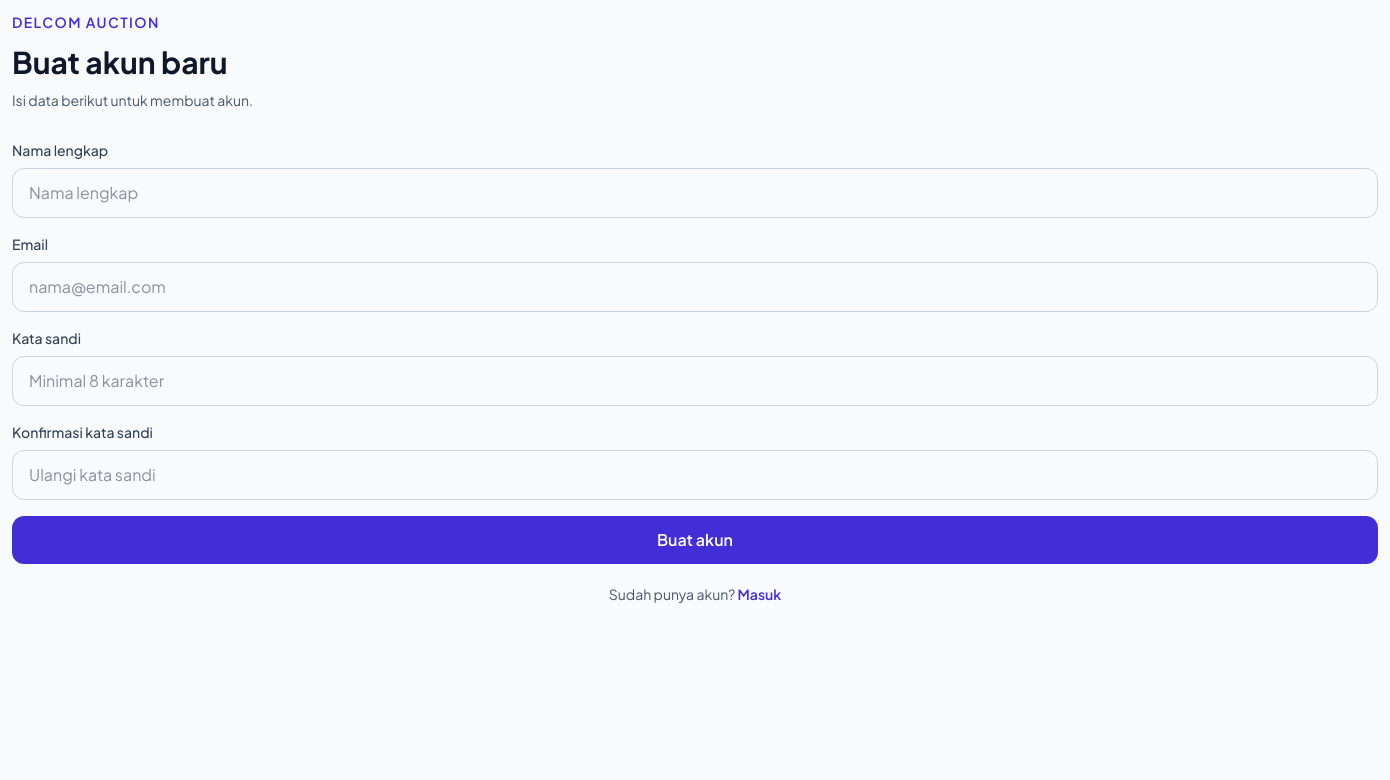
Test: RegisterPage › validasi form {"name":""}
Type "a@b.com" into the field with id "register-email". click: (695, 287)
box: [12,262,1378,312]
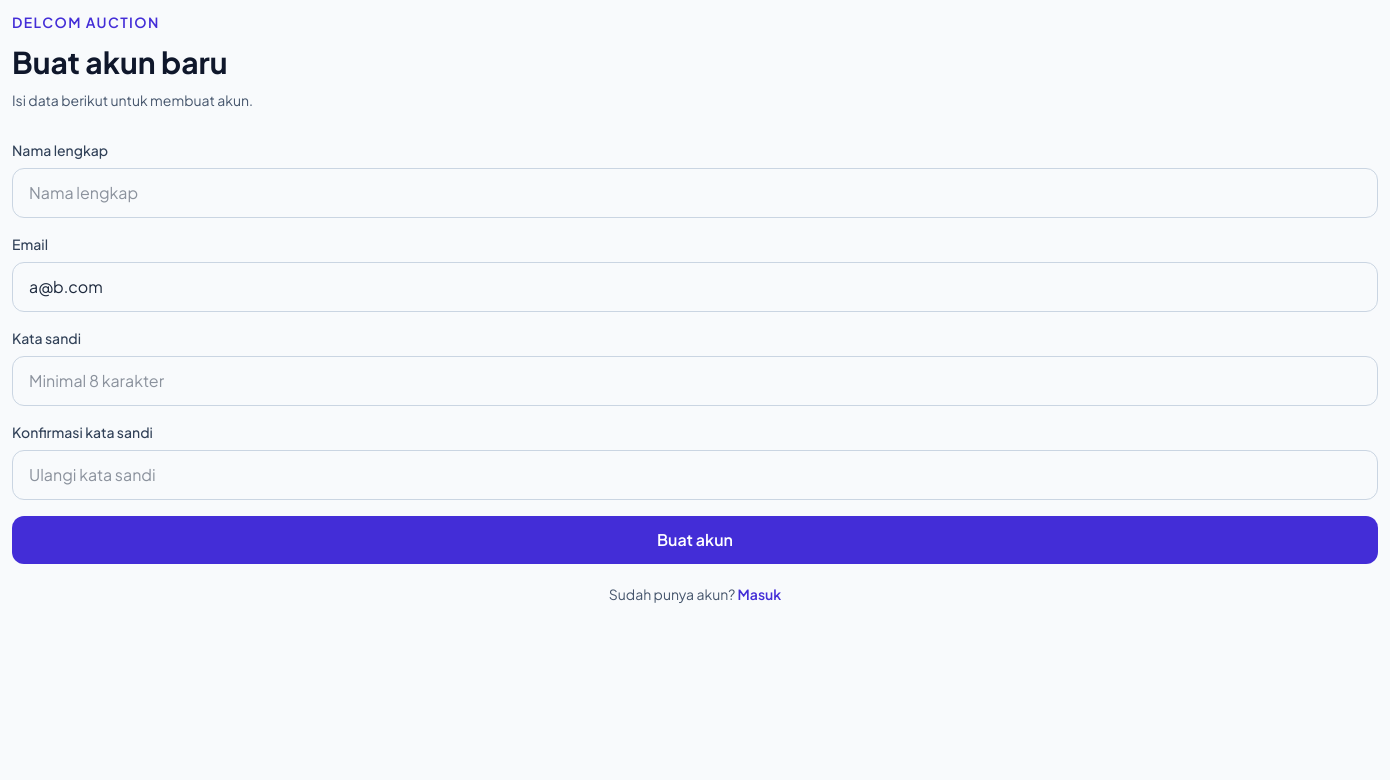
Type "rahasia123" into the password field with id "register-password". click: (695, 381)
box: [12,356,1378,406]
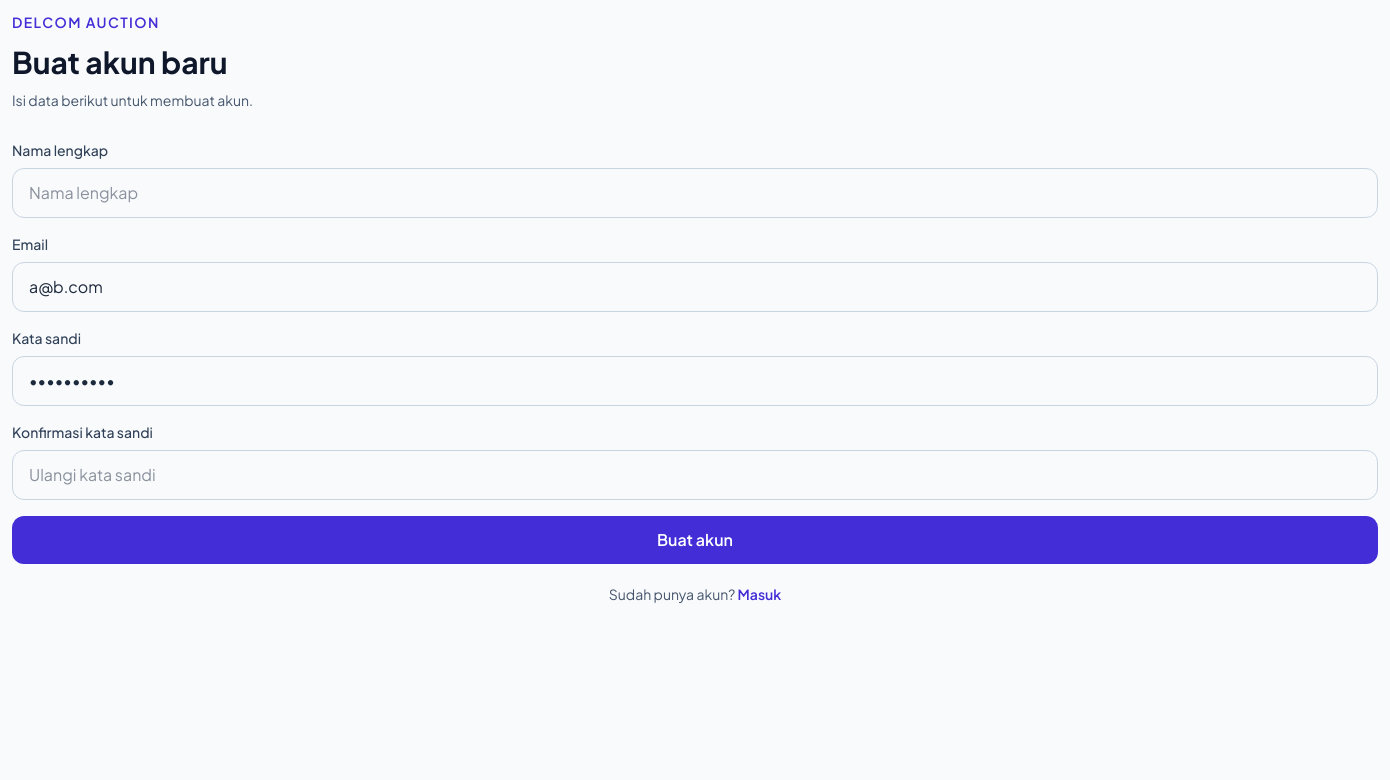
Type "rahasia123" into the password field with id "register-confirm-password". click: (695, 475)
box: [12,450,1378,500]
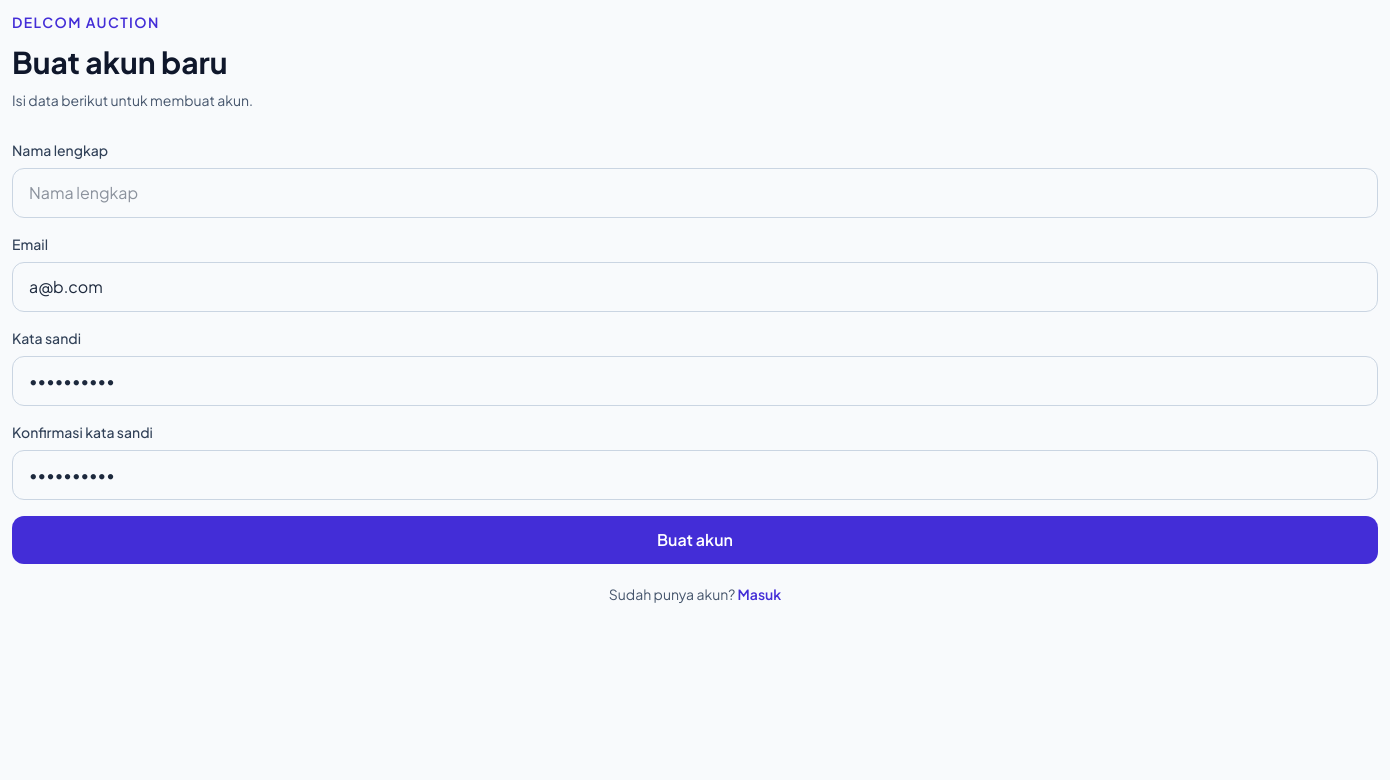
Submit the form, box [12,140,1378,564]
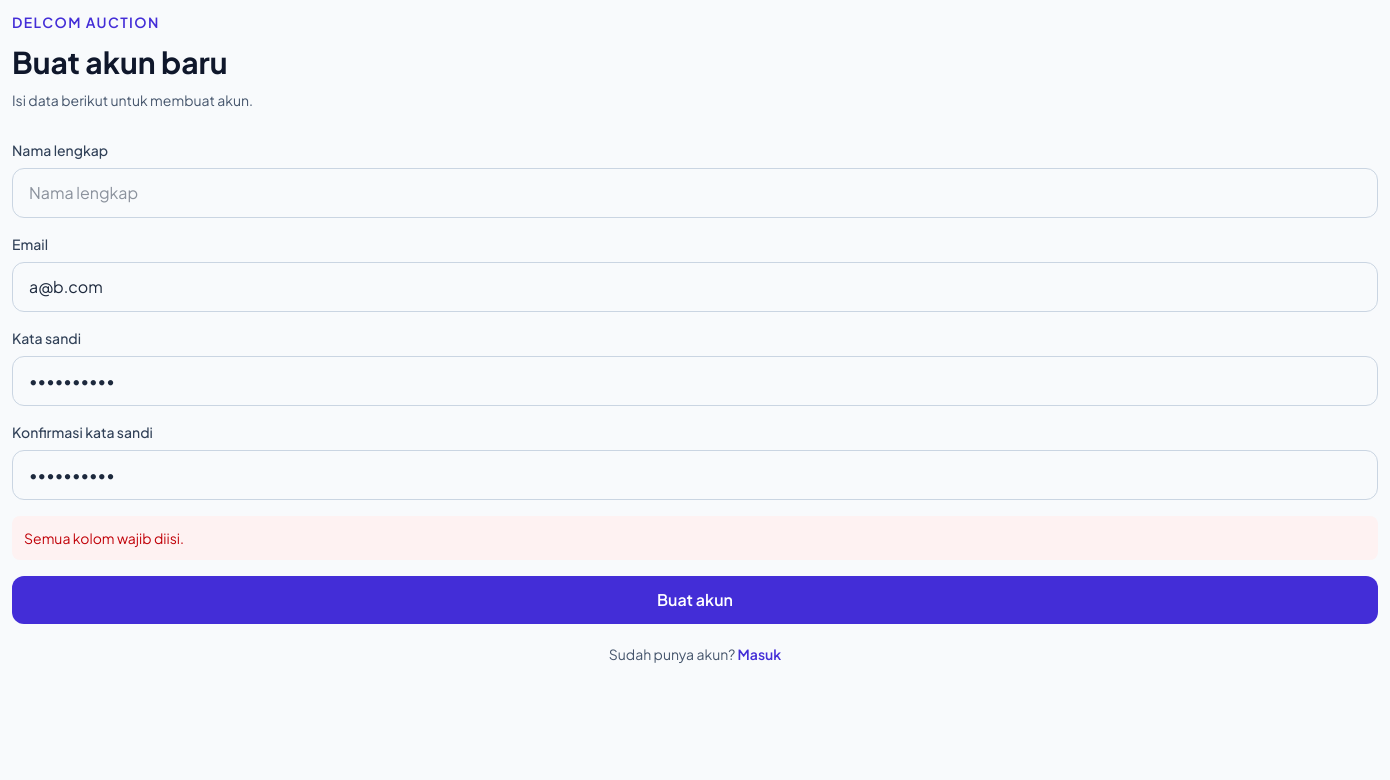
Expected: the message "Semua kolom wajib diisi." is shown, [12,516,1378,560]
